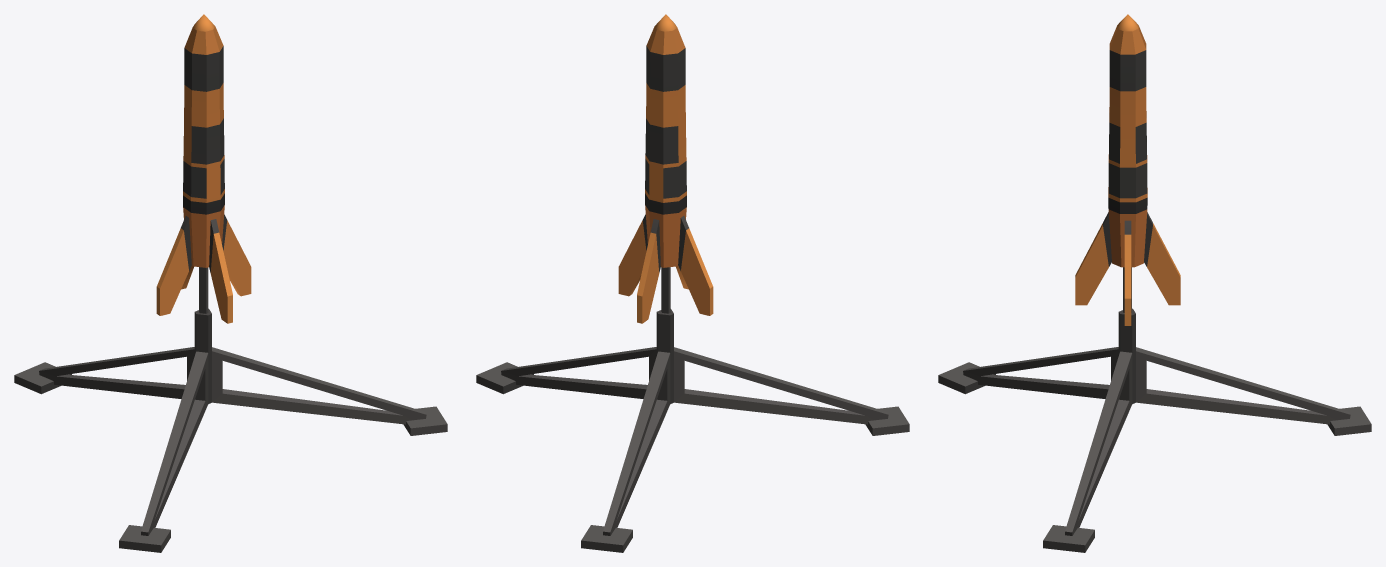
File: SM_Prop_ModelRocket_Launcher_01.fbx
3 renders of one model, left to right at view 1: azimuth 30°, elevation 25°; view 2: azimuth 150°, elevation 25°; view 3: azimuth 270°, elevation 25°, orthographic.
Visible parts, largest first — view 1: SM_Prop_ModelRocket_Launcher_01, SM_Veh_ModelRocket_01; view 2: SM_Prop_ModelRocket_Launcher_01, SM_Veh_ModelRocket_01; view 3: SM_Prop_ModelRocket_Launcher_01, SM_Veh_ModelRocket_01.
Part boxes in pixels (x1=…): SM_Prop_ModelRocket_Launcher_01: x1=14, y1=267, x2=447, y2=552; SM_Veh_ModelRocket_01: x1=156, y1=14, x2=251, y2=323; SM_Prop_ModelRocket_Launcher_01: x1=476, y1=267, x2=909, y2=552; SM_Veh_ModelRocket_01: x1=618, y1=14, x2=713, y2=323; SM_Prop_ModelRocket_Launcher_01: x1=938, y1=267, x2=1371, y2=552; SM_Veh_ModelRocket_01: x1=1075, y1=14, x2=1180, y2=325.
Size of the model in its own units: 6.37 by 7.07 by 6.37.
